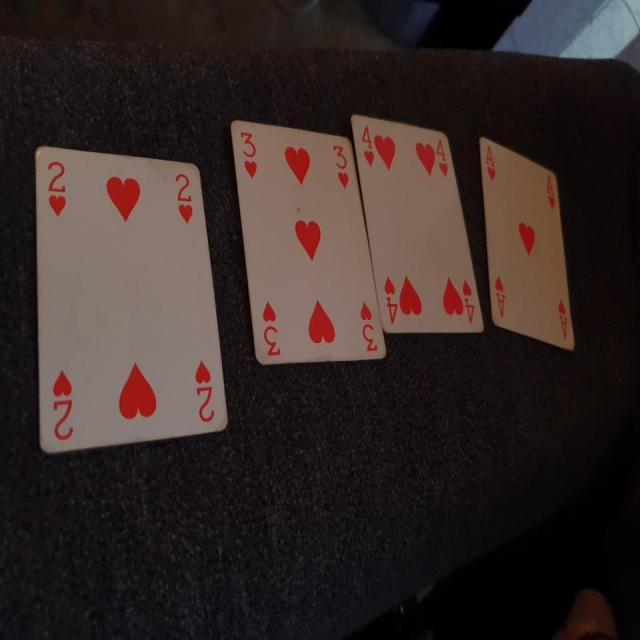2 Hearts: (20, 135, 234, 472)
3 Hearts: (226, 120, 390, 367)
4 Hearts: (346, 111, 494, 349)
A Hearts: (479, 124, 583, 356)
